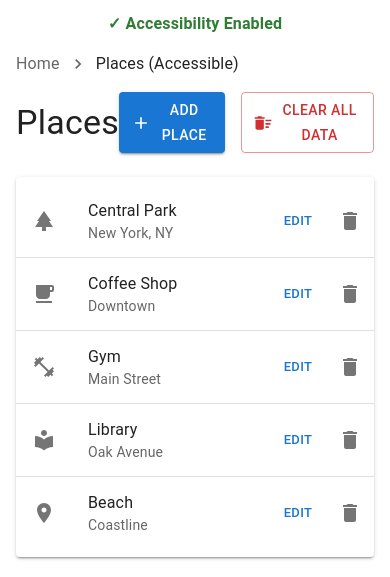
Test: Places Component › deletes a place when delete button is clicked
The image size is (390, 577).
Expected: the text "Central Park" is shown, [88,201,177,220]
Find and click the first delete button
Click the button named "Delete " at (350, 221), box [330,201,370,241]
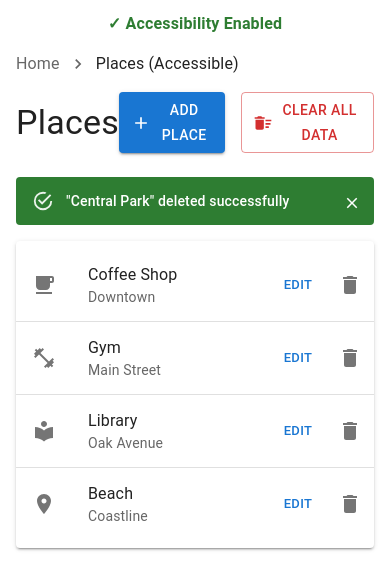
Now the message reads "\"Central Park\" deleted successfully", box [66,193,289,209]
